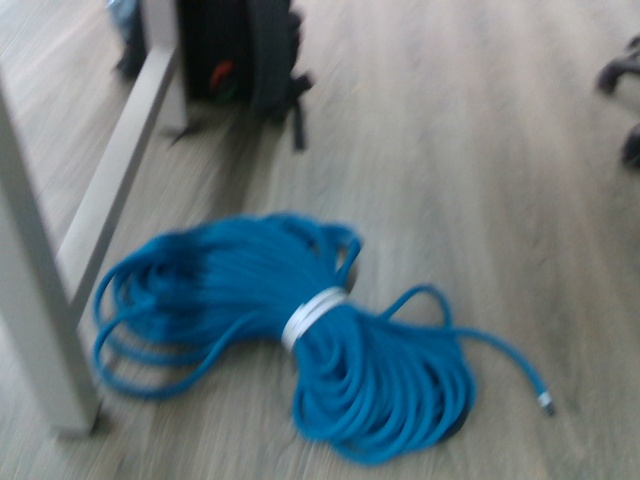rope: (90, 207, 562, 468)
